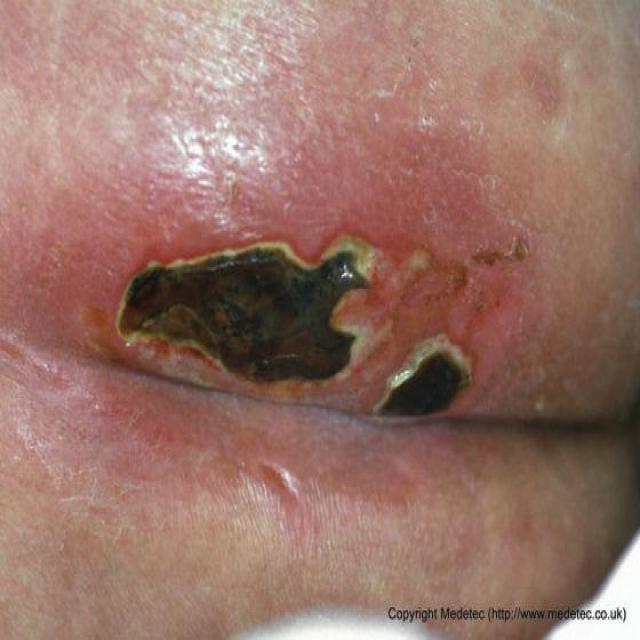Unstageable: (118, 237, 375, 384), (372, 335, 470, 417)
